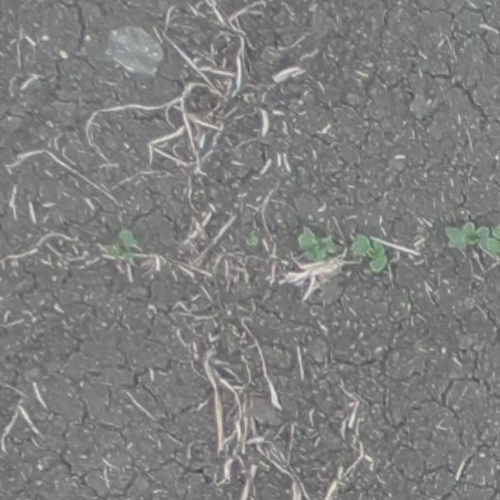plant: (445, 222, 499, 259), (351, 234, 388, 272), (297, 225, 338, 258), (109, 231, 138, 258)
